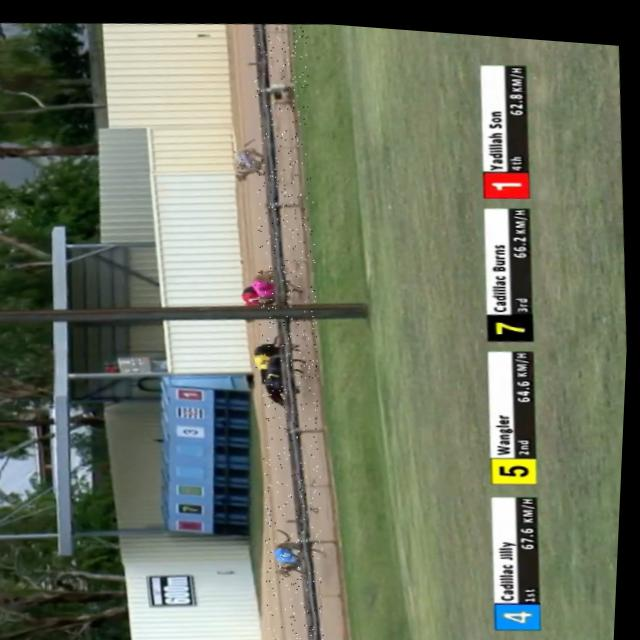dog_eight: (256, 274, 285, 291)
dog_five: (257, 347, 280, 365)
dog_four: (276, 538, 304, 559)
dog_one: (245, 287, 267, 302)
dog_seven: (268, 362, 291, 379)
dog_two: (235, 144, 265, 168)
rail: (252, 19, 329, 640)
